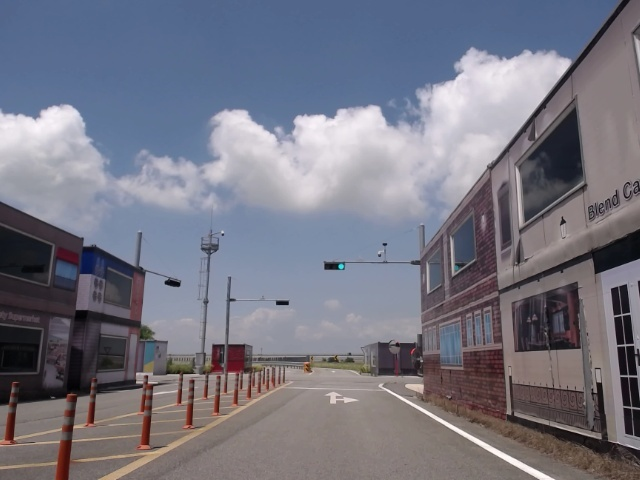green_3: (325, 262, 346, 270)
